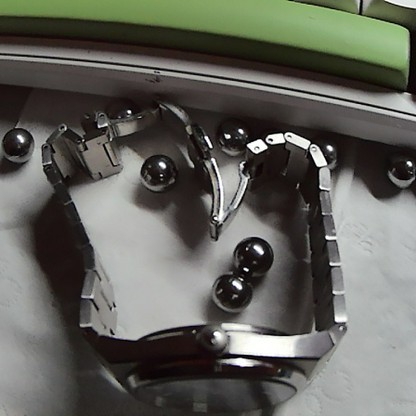ironball: (198, 260, 264, 323), (224, 226, 275, 276), (131, 150, 178, 197), (0, 122, 40, 167), (383, 141, 414, 195), (98, 92, 142, 127), (213, 120, 257, 154), (310, 134, 340, 167)
